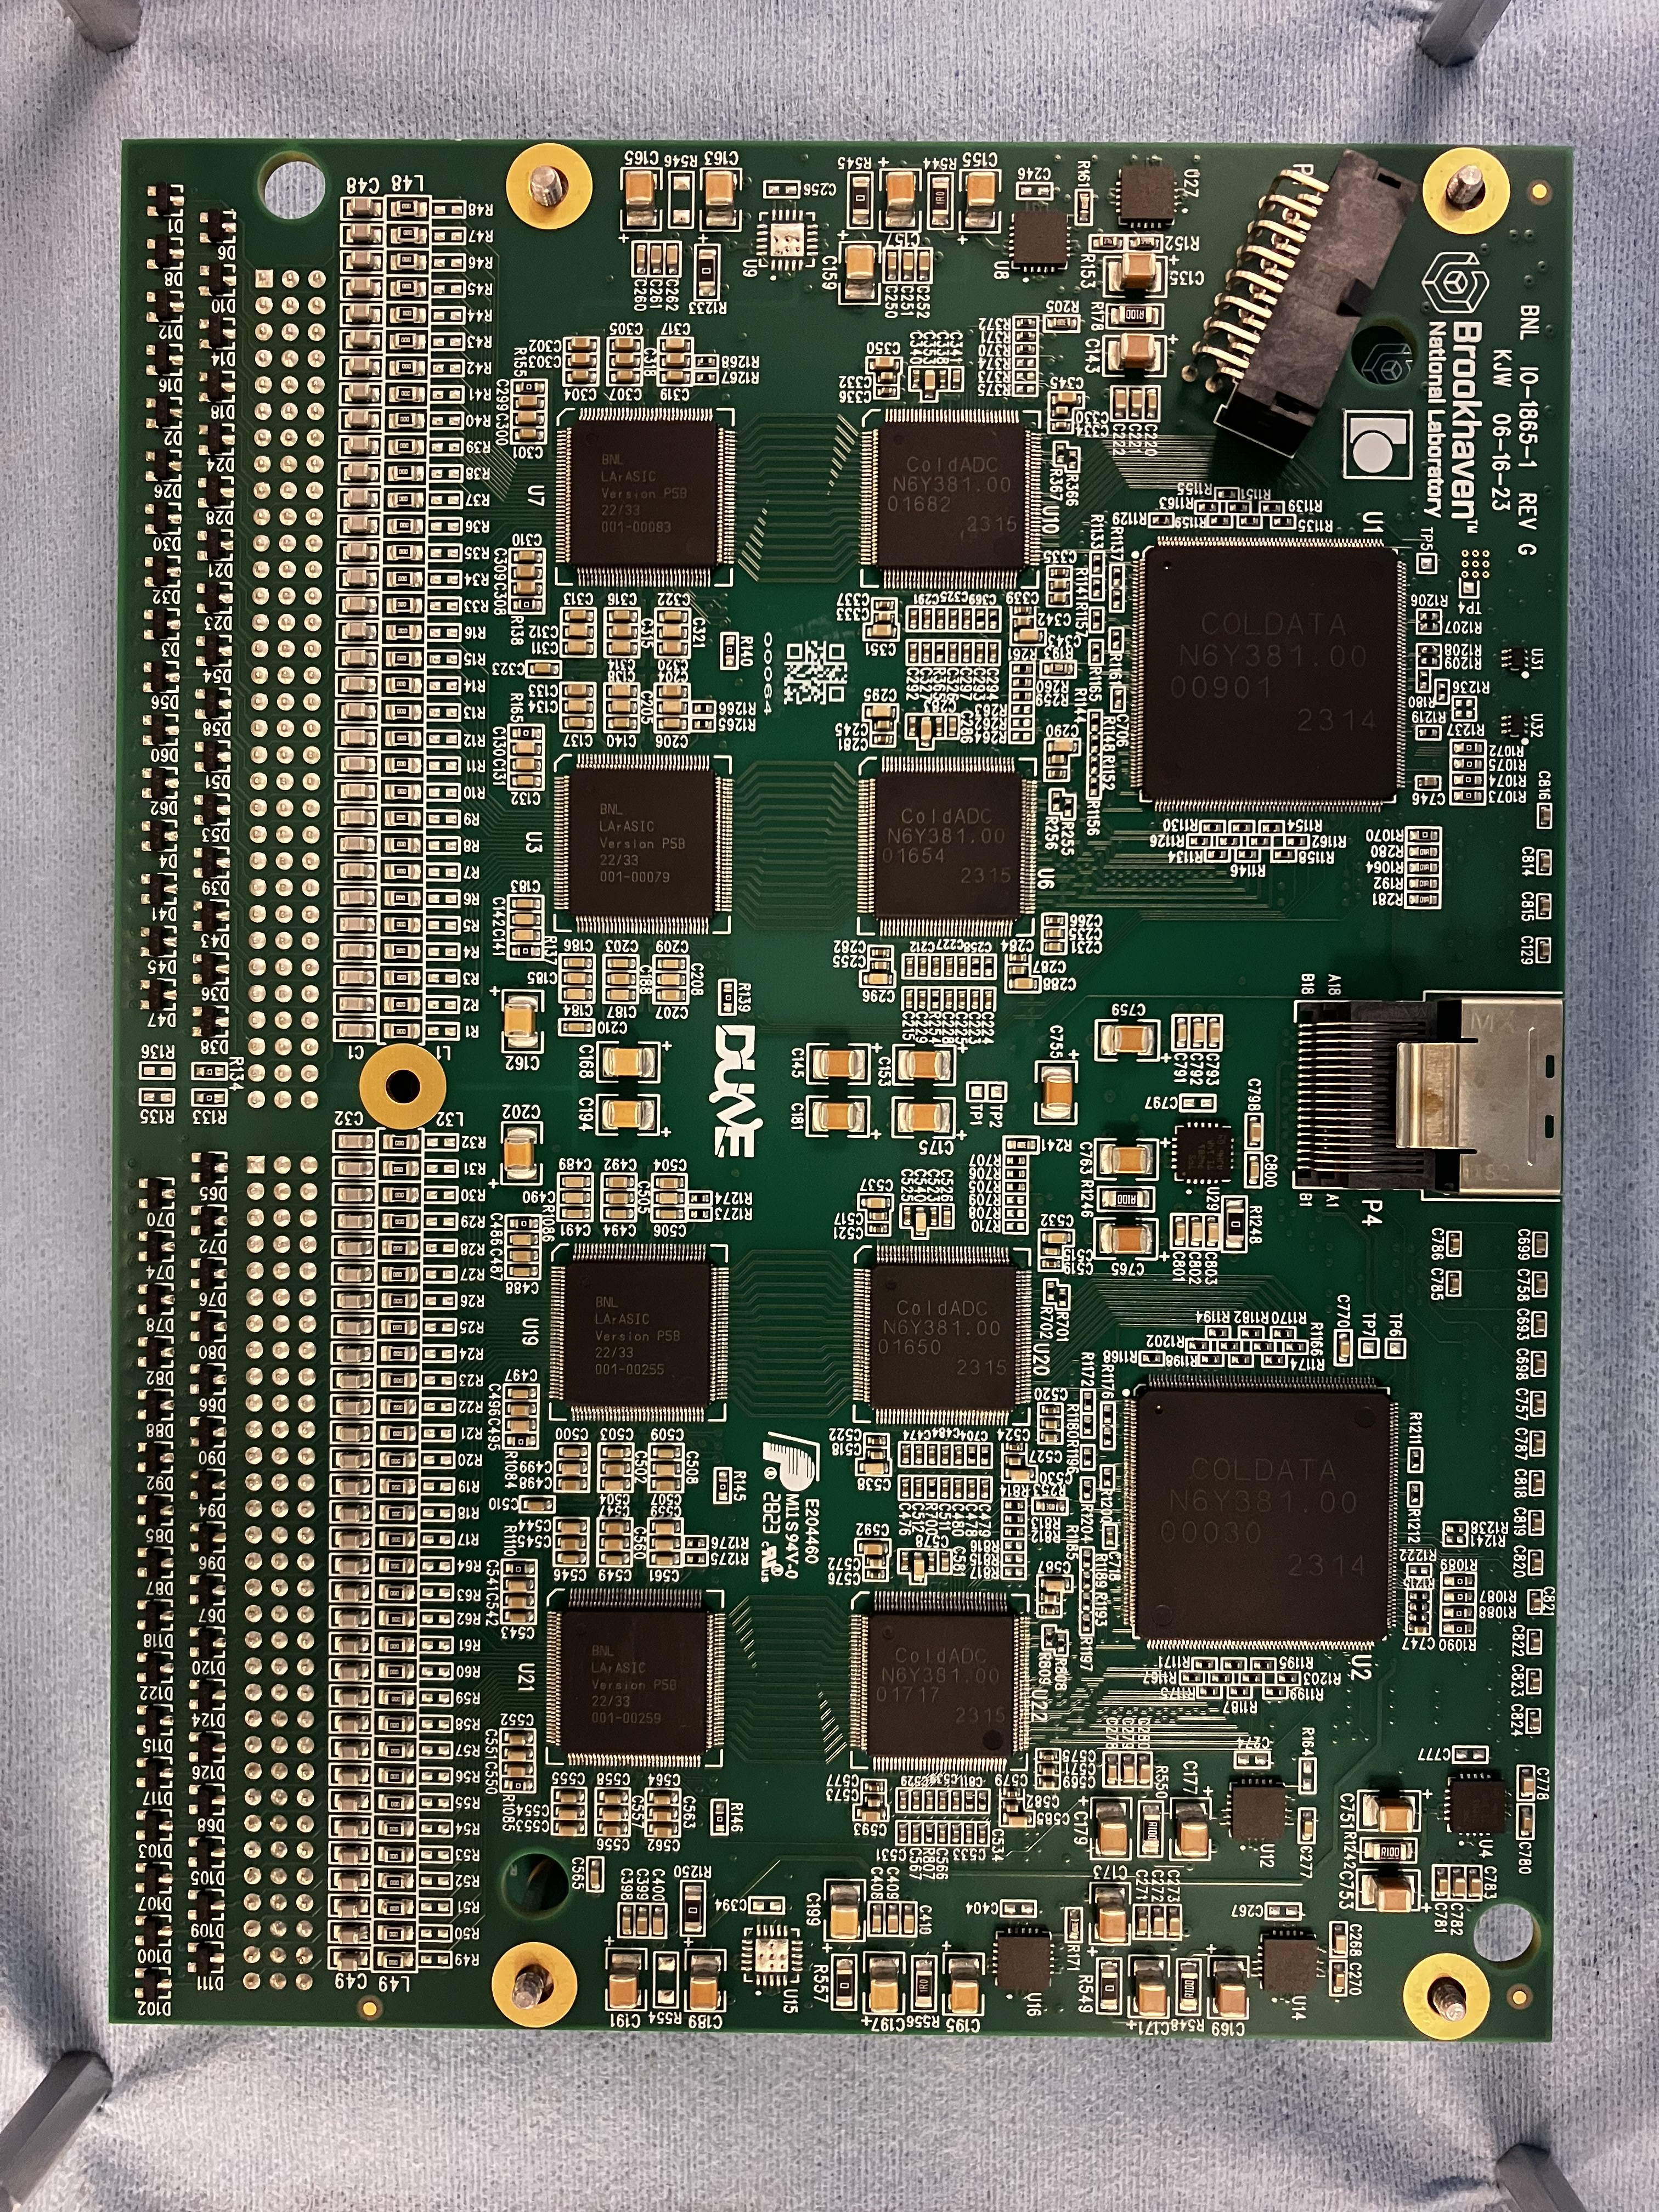chip: (1143, 543, 1398, 801), (1134, 1385, 1387, 1641), (877, 420, 1025, 570), (570, 421, 718, 571), (568, 768, 716, 918), (875, 768, 1021, 918), (871, 1261, 1018, 1411), (563, 1608, 709, 1757), (868, 1608, 1014, 1757), (565, 1261, 711, 1409)
